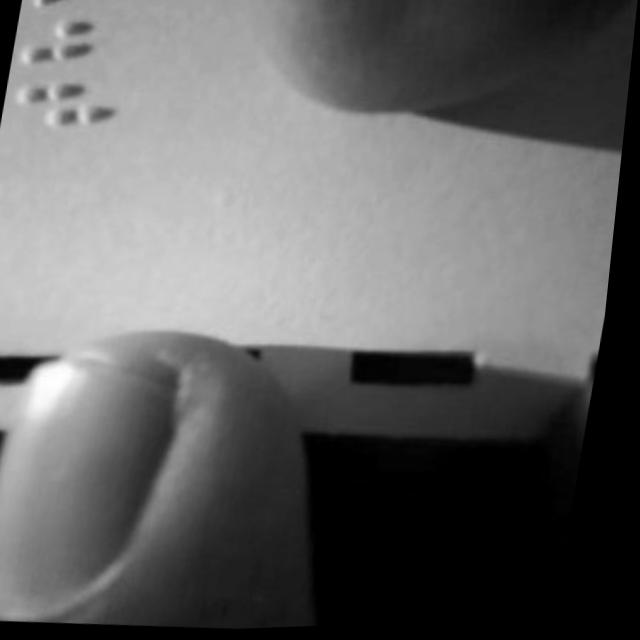braiile: (14, 9, 135, 75), (8, 75, 128, 134), (23, 0, 143, 15)
